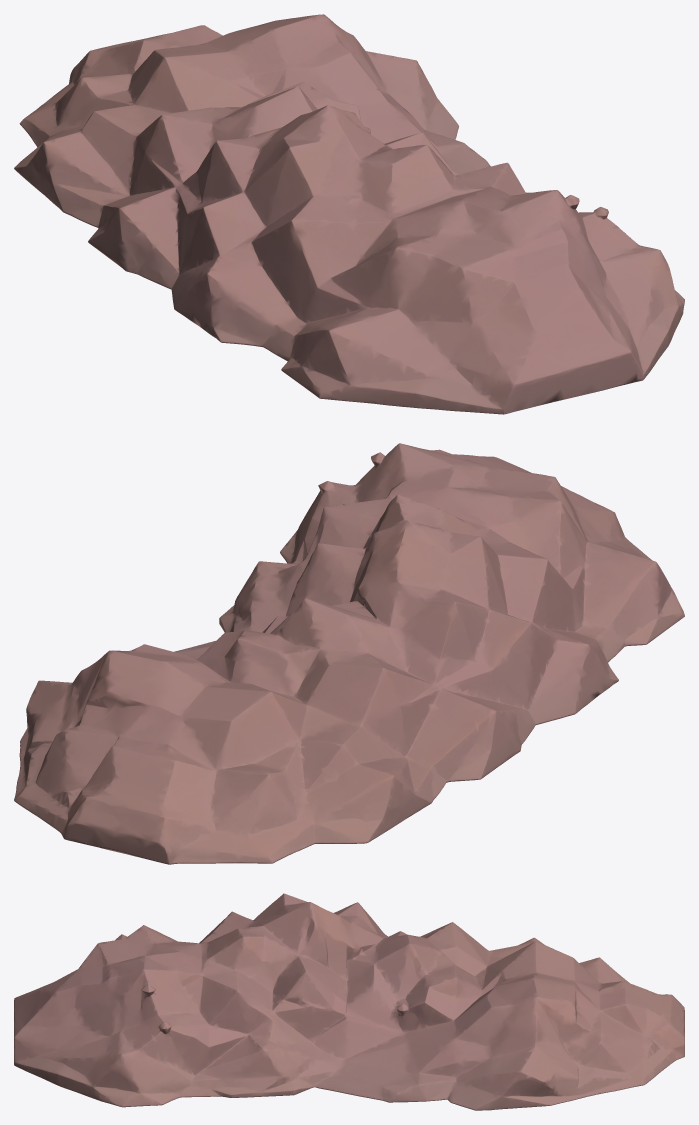
The model's file is low-poly+mountain+range+3d+model.glb.
3 views of the same model, one above another, from view 1: azimuth 30°, elevation 25°; view 2: azimuth 150°, elevation 25°; view 3: azimuth 270°, elevation 25° (orthographic). The views are drawn at different scales.
Visible parts, largest first — view 1: tripo_node_06276e08-644e-4f51-ad8c-bc732628db5b; view 2: tripo_node_06276e08-644e-4f51-ad8c-bc732628db5b; view 3: tripo_node_06276e08-644e-4f51-ad8c-bc732628db5b.
Boxes of the visible parts, x1,y1,x2,y2 form: tripo_node_06276e08-644e-4f51-ad8c-bc732628db5b: (14,14,684,414); tripo_node_06276e08-644e-4f51-ad8c-bc732628db5b: (14,443,684,864); tripo_node_06276e08-644e-4f51-ad8c-bc732628db5b: (14,893,684,1110).
Size of the model in its own units: 0.5197 by 0.1982 by 1.
1 material, 1 textured.
